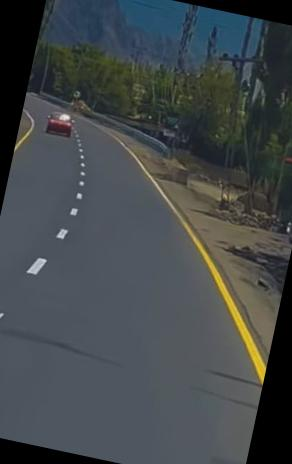sharp_turn: (0, 120, 173, 461)
